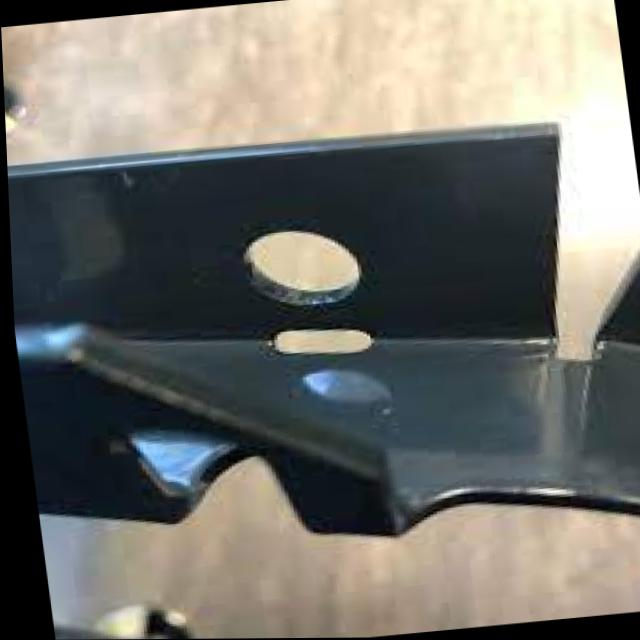holes: (234, 220, 362, 313), (267, 320, 380, 363)
